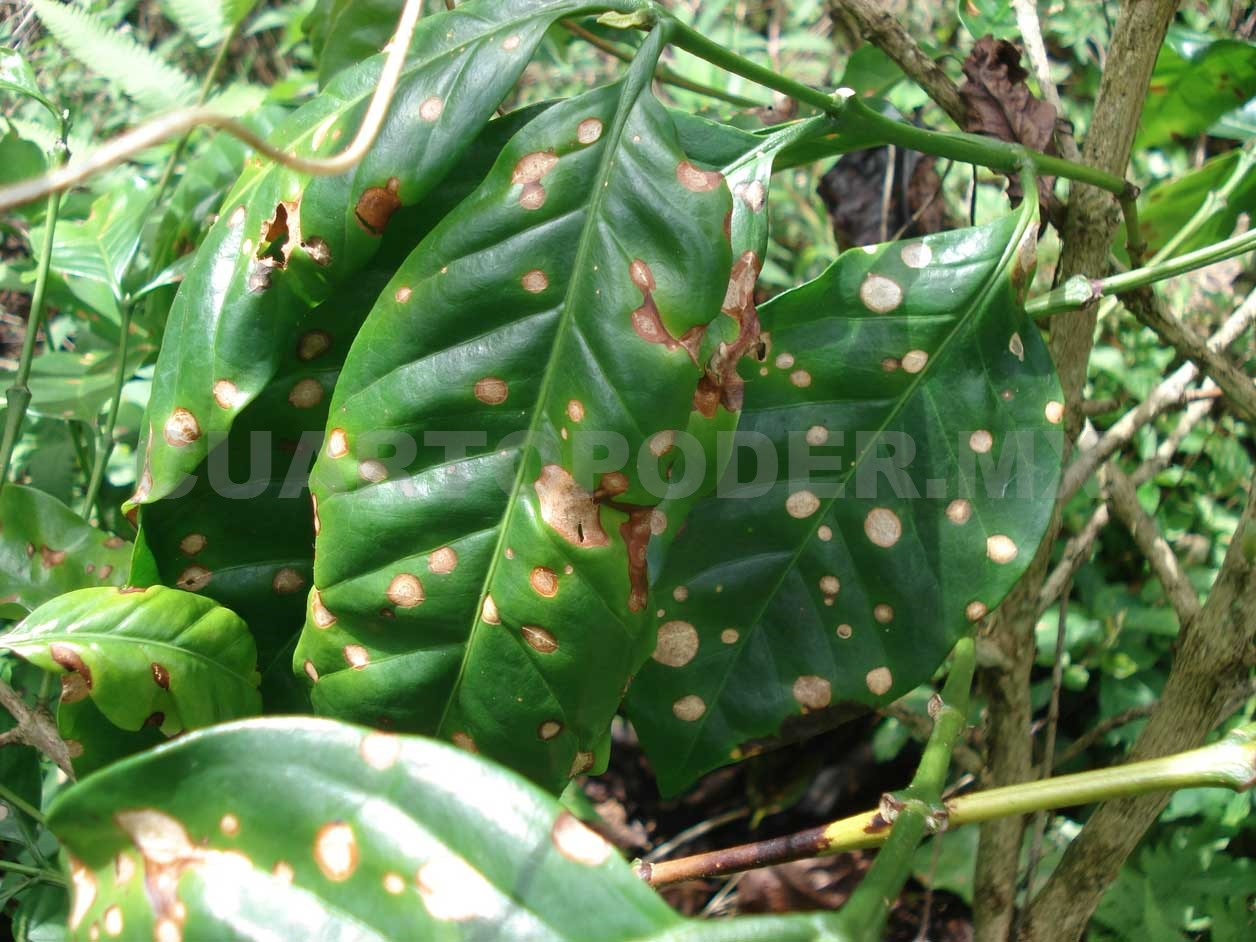ojo de gallo: (393, 99, 694, 768), (765, 231, 1052, 754), (123, 161, 382, 684)
